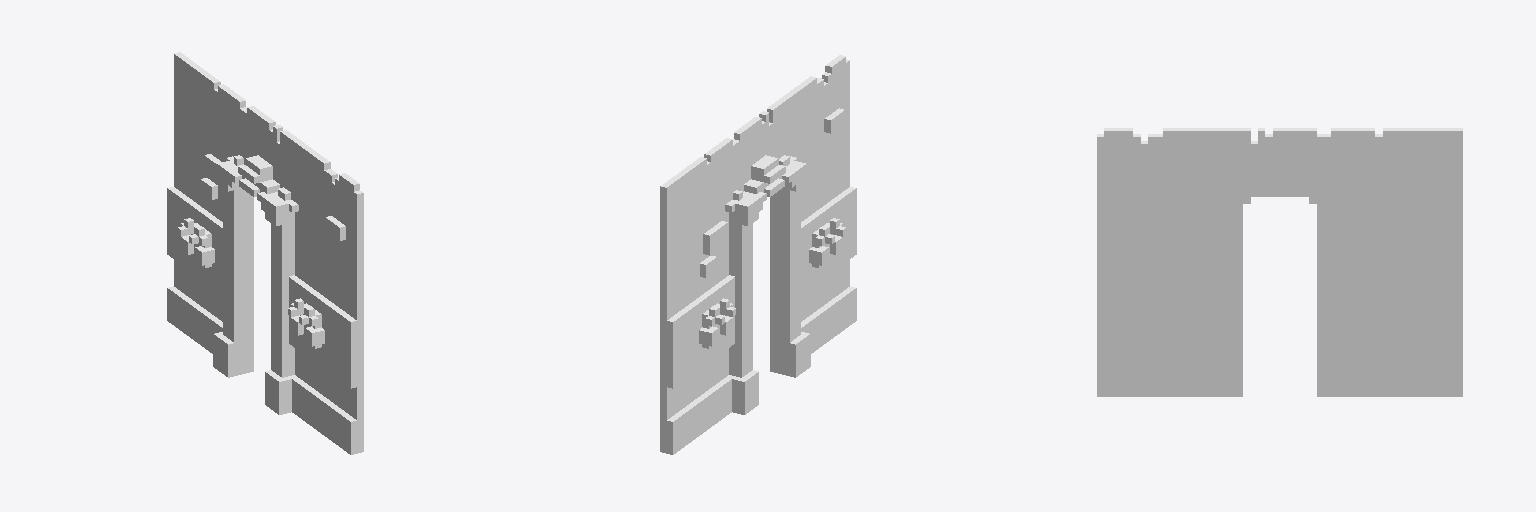
The model's file is vox-15-Wall_KingDoor.obj.
3 views of the same model, side by side, from view 1: azimuth 30°, elevation 25°; view 2: azimuth 150°, elevation 25°; view 3: azimuth 270°, elevation 25° (orthographic).
Visible parts, largest first — view 1: Wall_KingDoor; view 2: Wall_KingDoor; view 3: Wall_KingDoor.
Boxes of the visible parts, x1,y1,x2,y2 form: Wall_KingDoor: [167, 52, 363, 454]; Wall_KingDoor: [660, 55, 856, 454]; Wall_KingDoor: [1097, 128, 1462, 396].
Size of the model in its own units: 0.5 by 4 by 5.